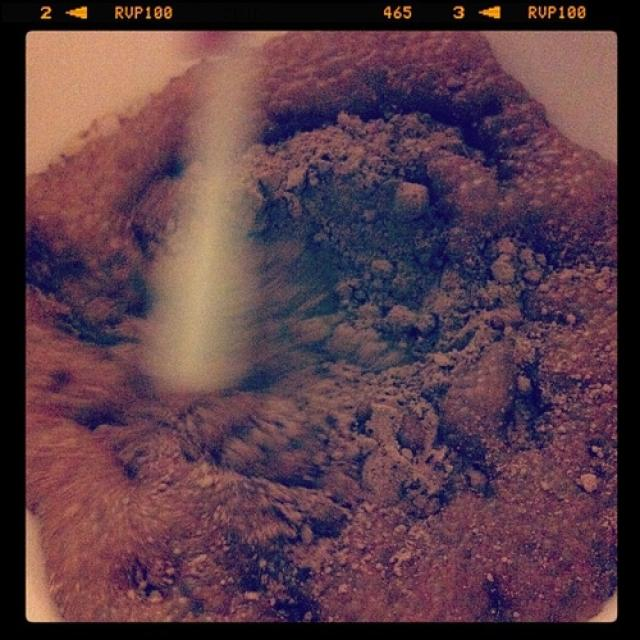蛋糕甜品: (44, 55, 606, 618)
